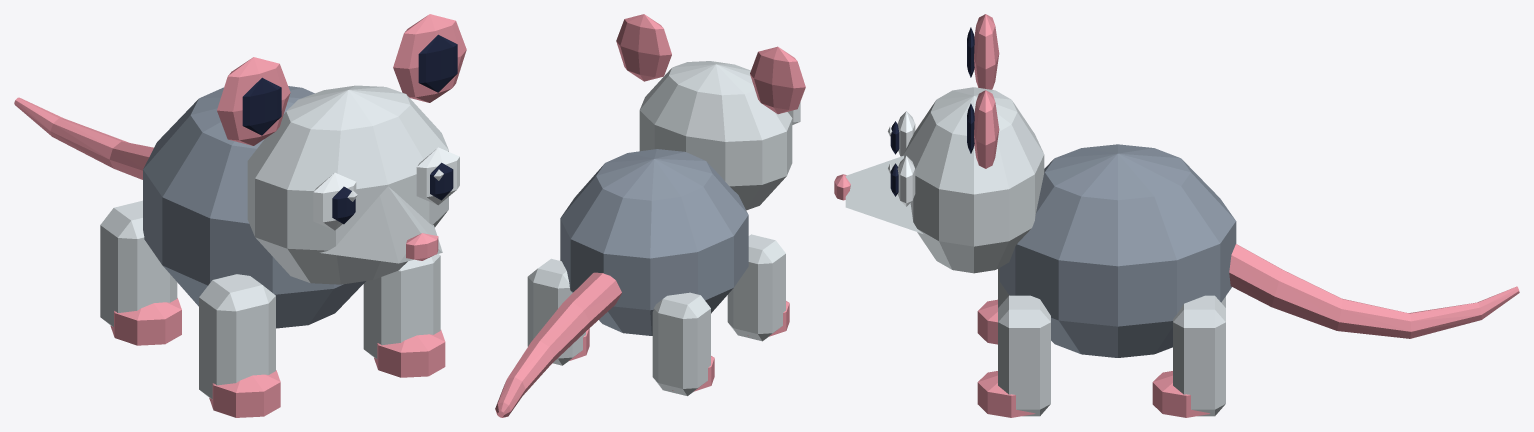
The model's file is C05_possum.glb.
The picture shows the model from 3 angles, left to right: view 1: azimuth 30°, elevation 25°; view 2: azimuth 150°, elevation 25°; view 3: azimuth 270°, elevation 25°; orthographic projection. The views are drawn at different scales.
Visible parts, largest first — view 1: Head, Body, Leg_FR, Leg_BR, Leg_FL, Ear_R, Ear_L, Tail; view 2: Body, Head, Leg_BR, Tail, Leg_FR, Leg_BL, Ear_R, Ear_L; view 3: Body, Head, Tail, Leg_FL, Leg_BL, Ear_L, Ear_R, Leg_FR.
Part boxes in pixels (left/top/right/bottom): Head: left=247, top=85, right=459, bottom=284; Body: left=143, top=86, right=365, bottom=328; Leg_FR: left=199, top=274, right=280, bottom=417; Leg_BR: left=100, top=200, right=181, bottom=345; Leg_FL: left=363, top=254, right=445, bottom=377; Ear_R: left=217, top=57, right=290, bottom=145; Ear_L: left=393, top=14, right=466, bottom=102; Tail: left=14, top=97, right=153, bottom=179; Body: left=560, top=149, right=748, bottom=335; Head: left=639, top=61, right=800, bottom=210; Leg_BR: left=652, top=292, right=714, bottom=396; Tail: left=495, top=272, right=621, bottom=417; Leg_FR: left=727, top=234, right=789, bottom=341; Leg_BL: left=527, top=258, right=589, bottom=365; Ear_R: left=750, top=46, right=805, bottom=114; Ear_L: left=616, top=14, right=671, bottom=81; Body: left=999, top=144, right=1236, bottom=357; Head: left=834, top=87, right=1044, bottom=273; Tail: left=1229, top=244, right=1519, bottom=338; Leg_FL: left=977, top=295, right=1050, bottom=417; Leg_BL: left=1152, top=295, right=1225, bottom=417; Ear_L: left=967, top=90, right=999, bottom=168; Ear_R: left=967, top=14, right=999, bottom=89; Leg_FR: left=977, top=268, right=1009, bottom=344.
Size of the model in its own units: 0.261 by 0.3695 by 0.7.
